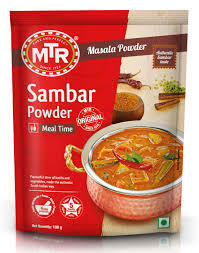VEG: (158, 216, 170, 229)
